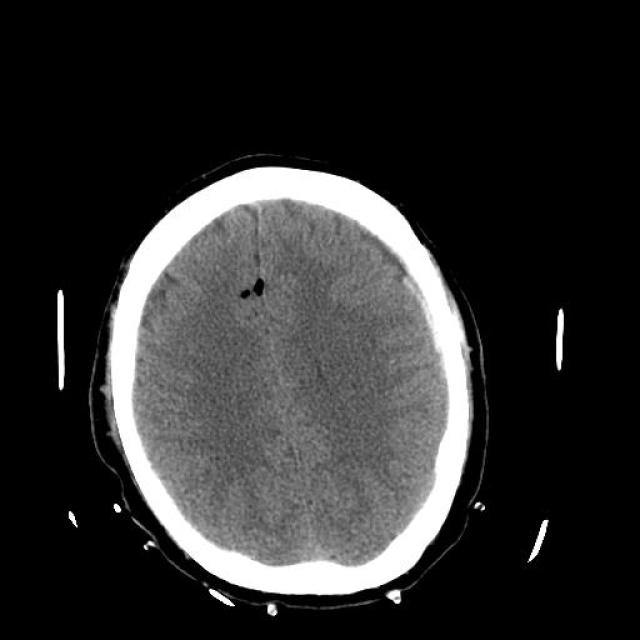Subdural: (395, 264, 463, 394)
